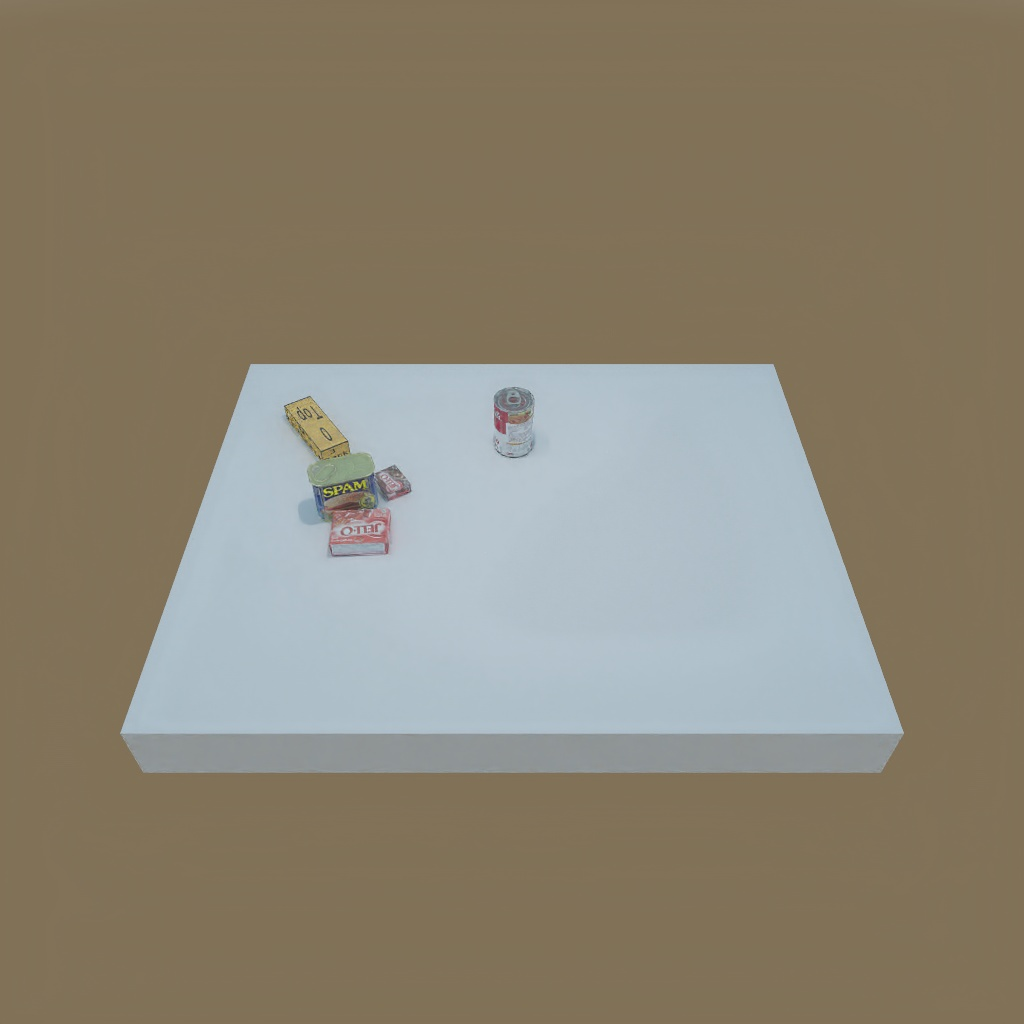gelatin_box: (327, 503, 392, 559)
jenga: (283, 394, 354, 465)
potted_meat_can: (308, 458, 383, 517)
pudding_box: (371, 459, 414, 498)
tomato_soup_can: (487, 386, 538, 458)
